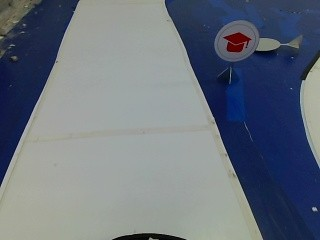school: (210, 19, 261, 63)
